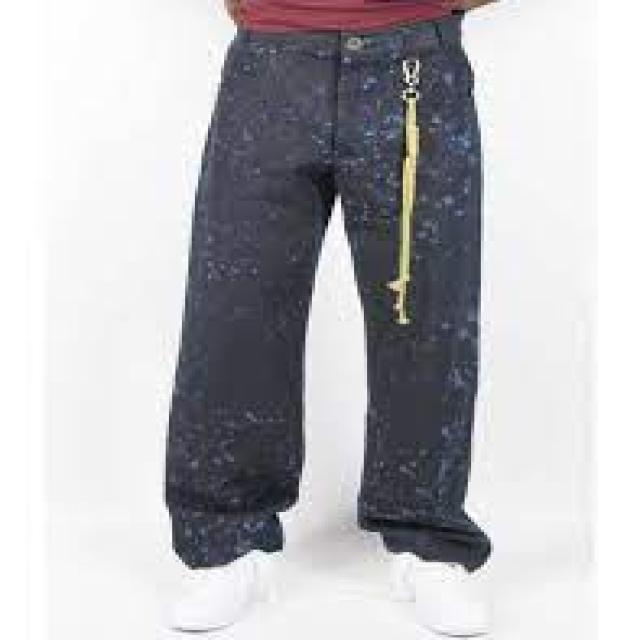pants: (161, 21, 500, 568)
